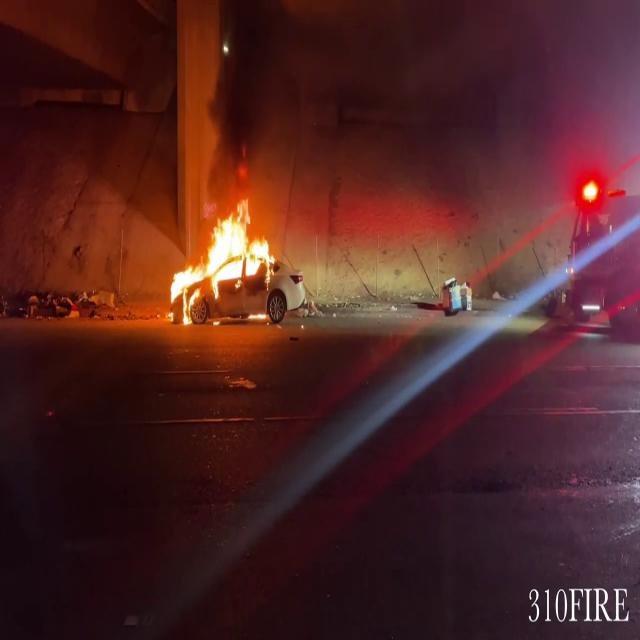Fire: (160, 197, 278, 320)
Smoke: (197, 0, 640, 235)
